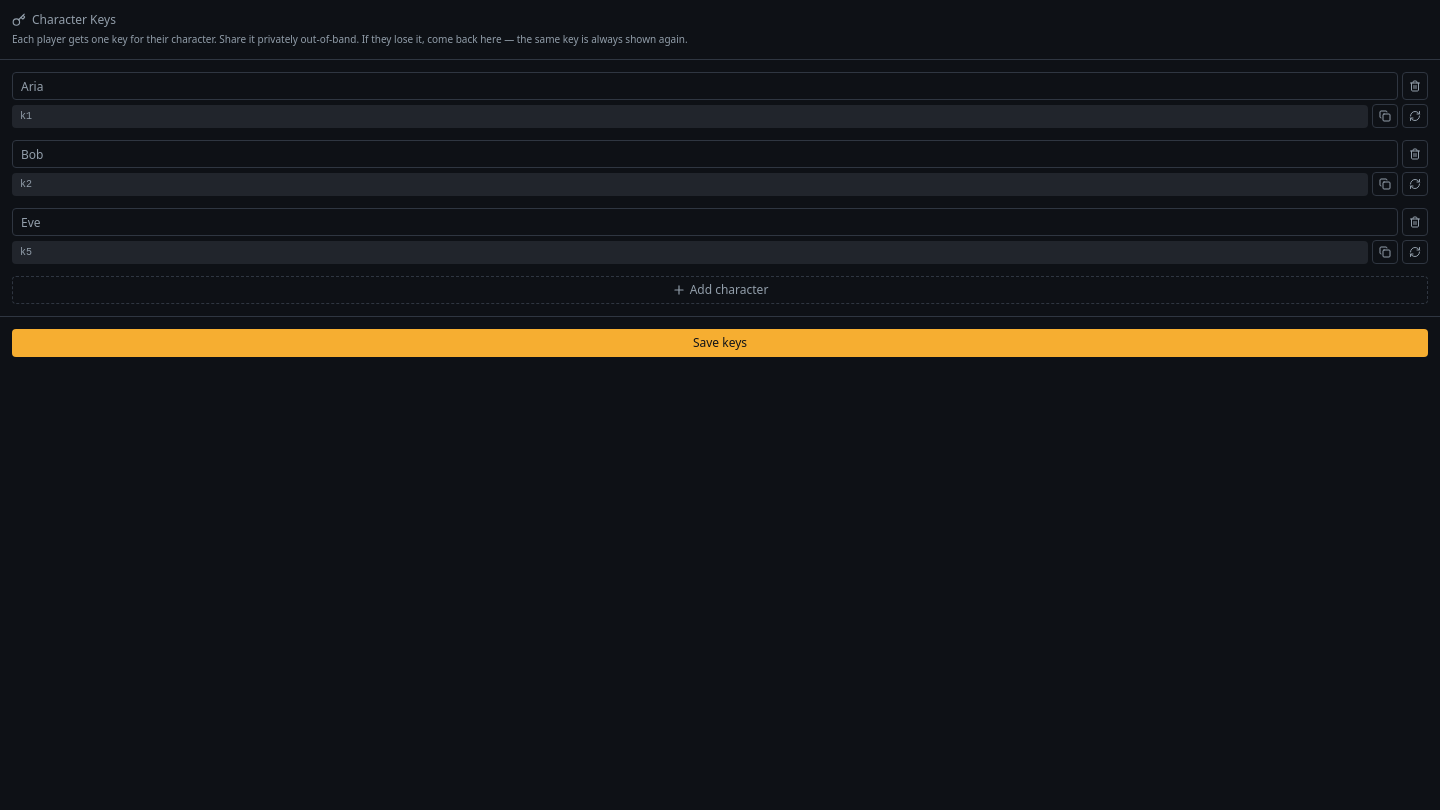
Test: CharacterKeysPanel — a save conflict re-reads the file and keeps the DM's rows (eval-2026-10/36) › merges the file's new state, says what changed outside, and the next save uses the new baseHash
Check: the 2nd field showing "Bob" is shown, box [12, 140, 1398, 168]
# The DM regenerates Bob's key and adds Cara, unsaved.
Click the button named "Regenerate key" in the row of "k2": (1415, 184) [1402, 172, 1428, 196]
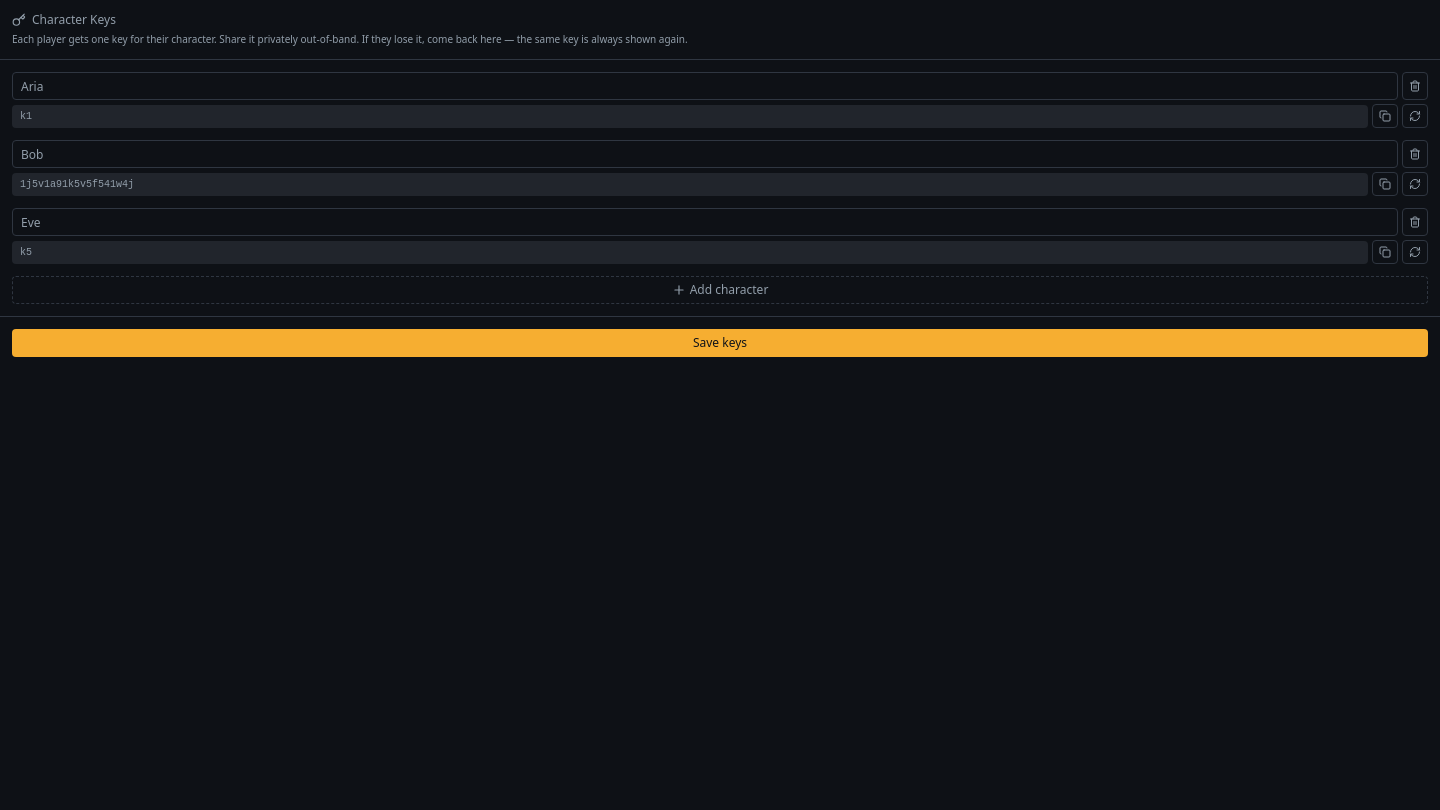
Click the button "Add character": (720, 290) [12, 276, 1428, 304]
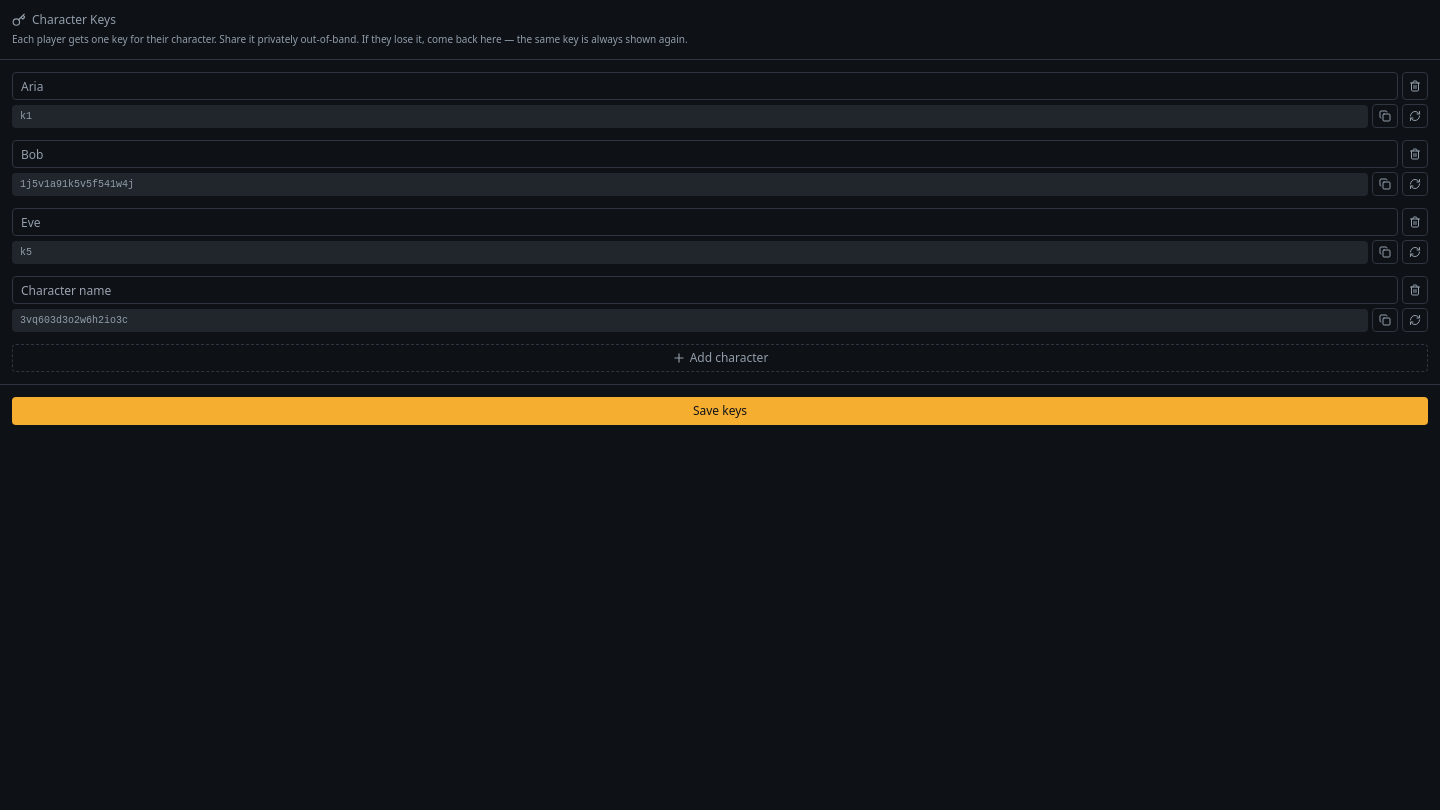
In the field labelled "Character name": (705, 290) [12, 276, 1398, 304], type "Cara"
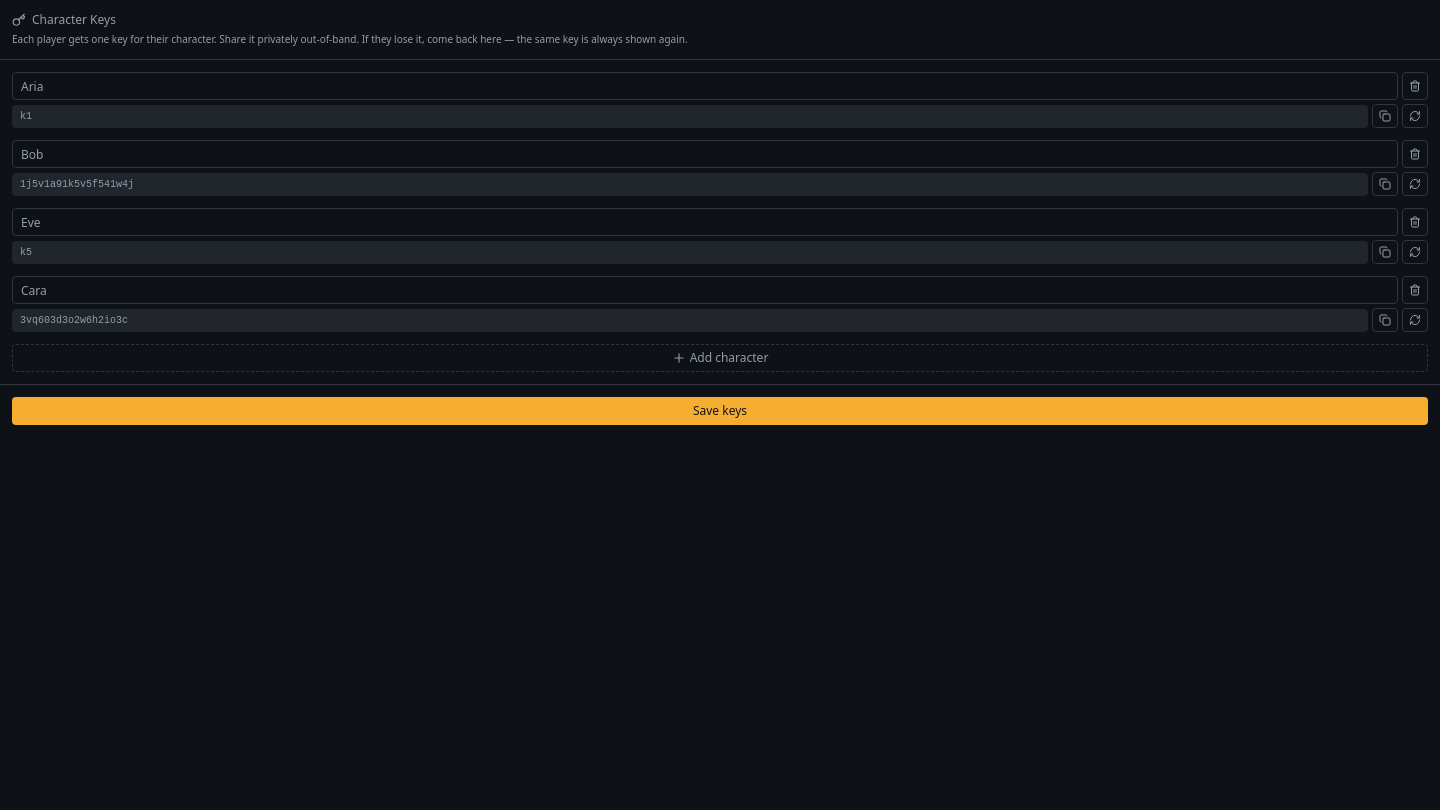
Click the button "Save keys": (720, 411) [12, 397, 1428, 425]
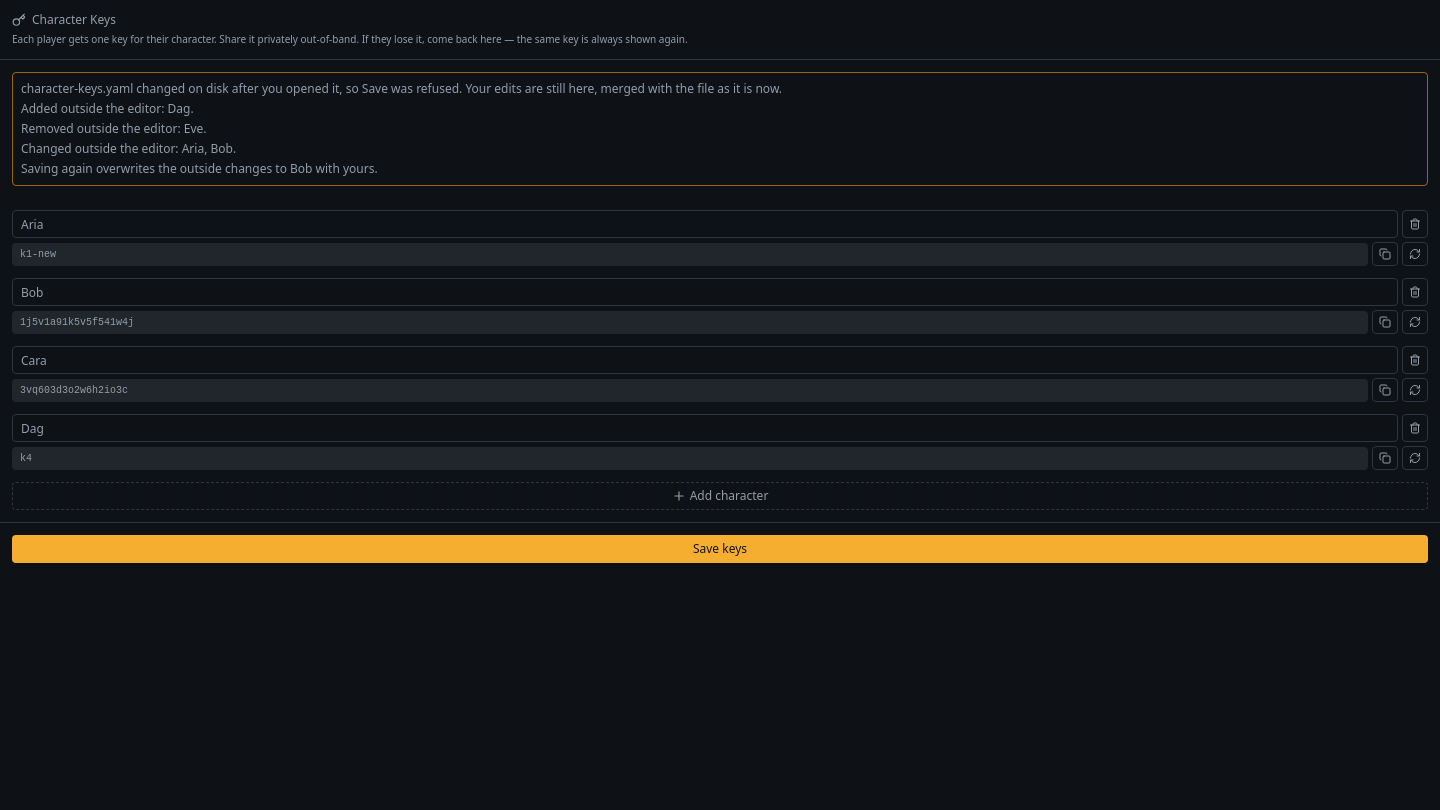
Check: the message shows "changed on disk", box [21, 80, 462, 97]
Check: the message shows "Added outside the editor: Dag", box [12, 72, 1428, 186]
Check: the message shows "Removed outside the editor: Eve", box [12, 72, 1428, 186]
Click the button "Save keys": (720, 549) [12, 535, 1428, 563]
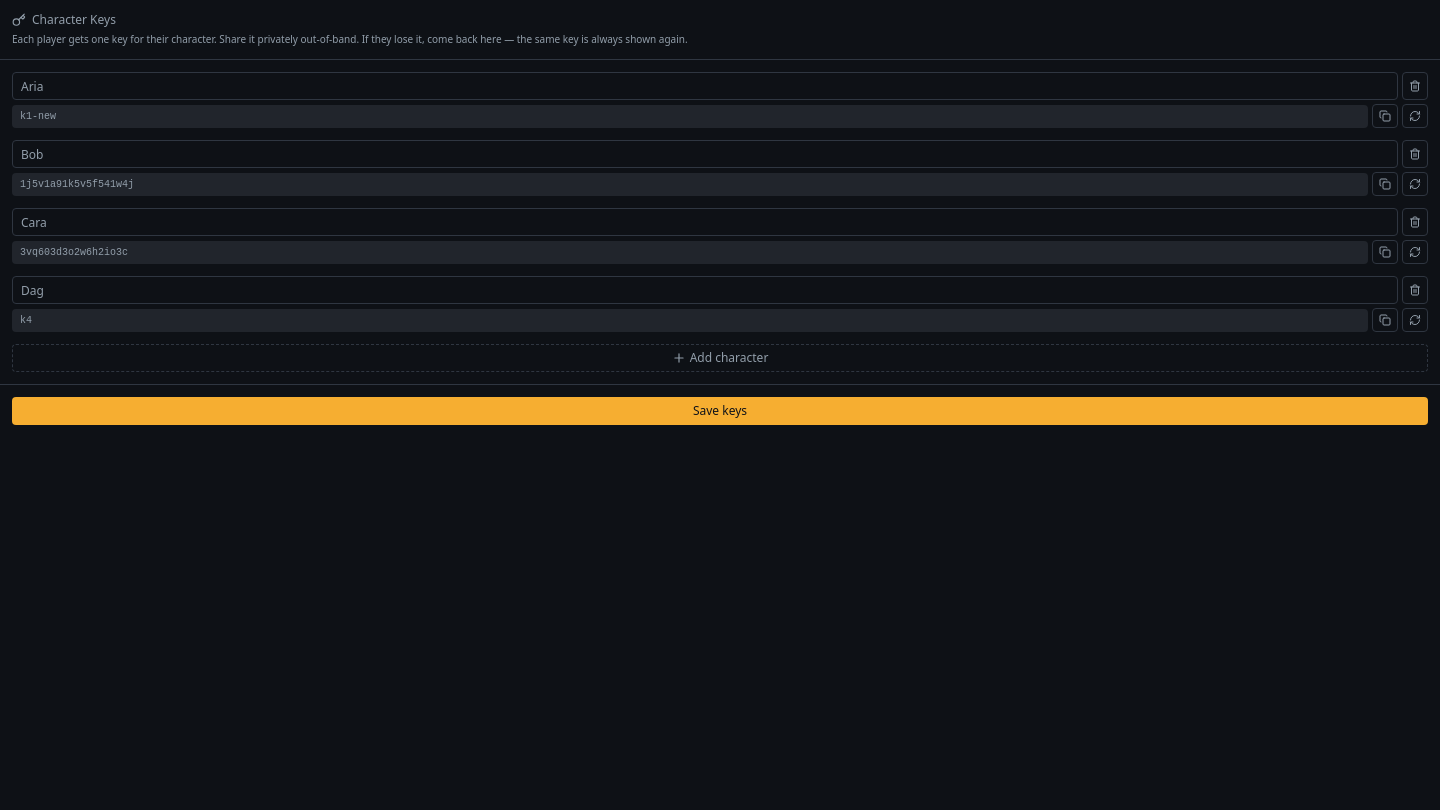
Check: the text "k1-new" is shown, box [12, 104, 1368, 128]
Check: the message is gone
